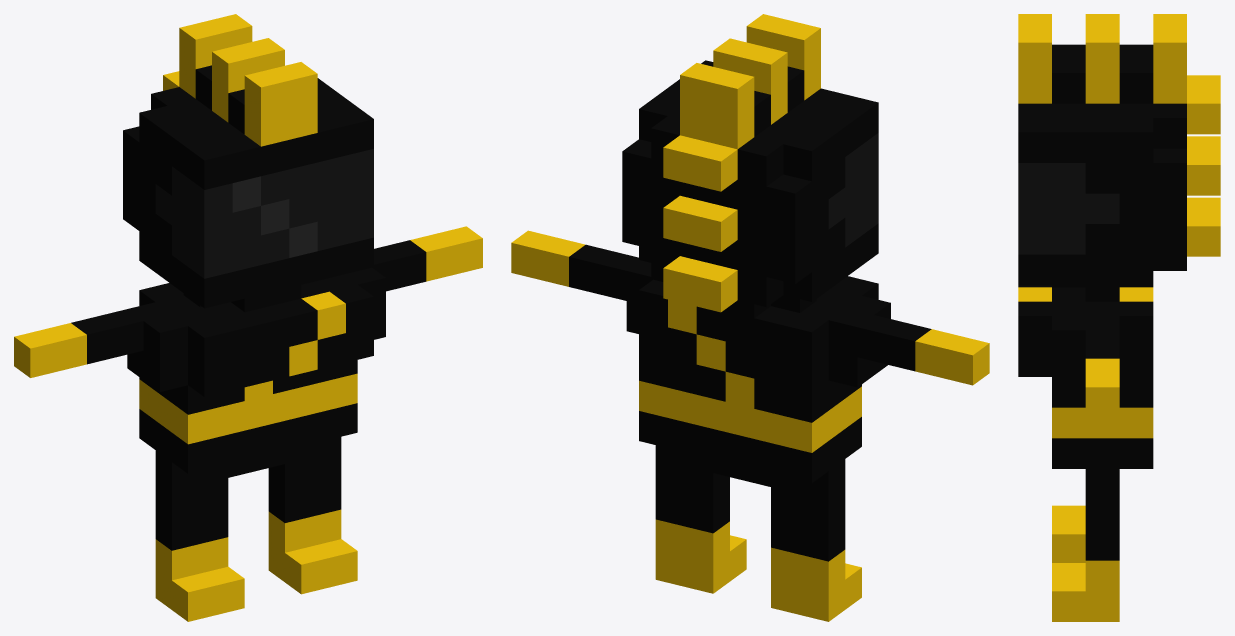
Rendered from Black-Gold_Kart_Driver_Standing.obj.
3 renders of one model, left to right at view 1: azimuth 30°, elevation 25°; view 2: azimuth 150°, elevation 25°; view 3: azimuth 270°, elevation 25°, orthographic. The views are drawn at different scales.
Size of the model in its own units: 1.6 by 1.8 by 0.6.
Materials: 1 (1 with a texture image).
